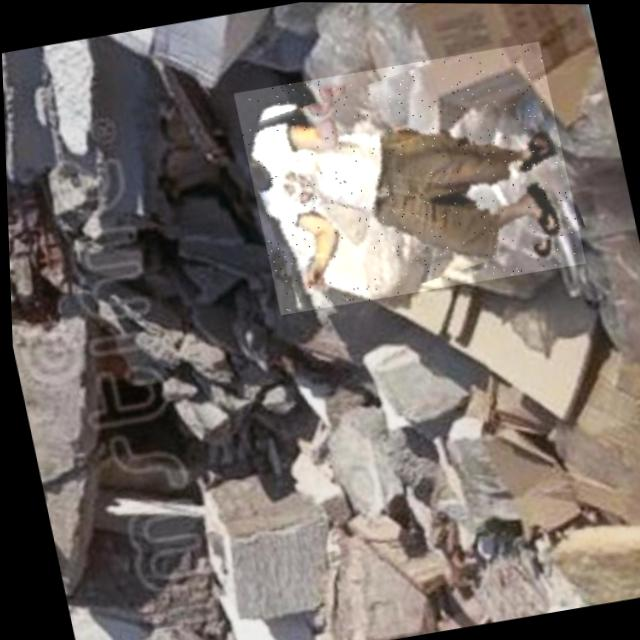Person in Rubble: (231, 37, 585, 315)
